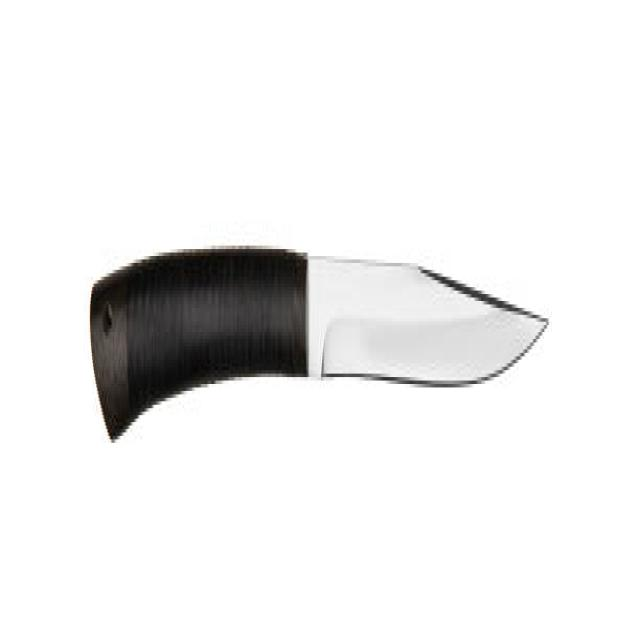knife: (88, 227, 554, 457)
